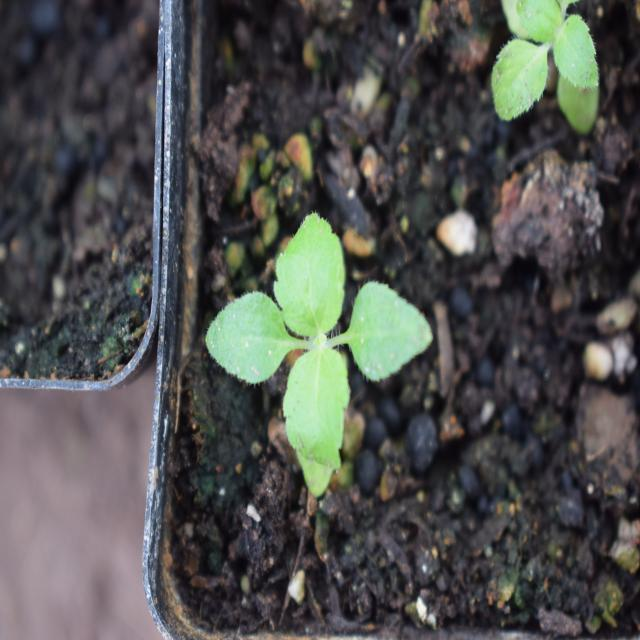billygoat_weed: (226, 189, 407, 500)
